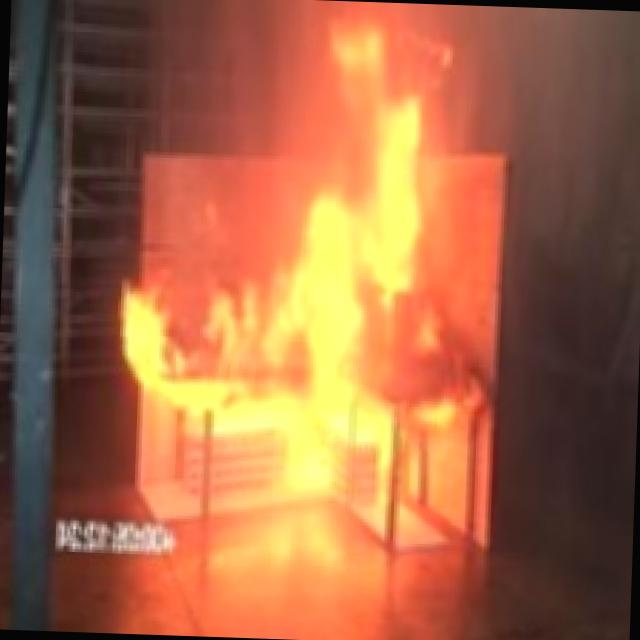fire: (99, 0, 504, 553)
